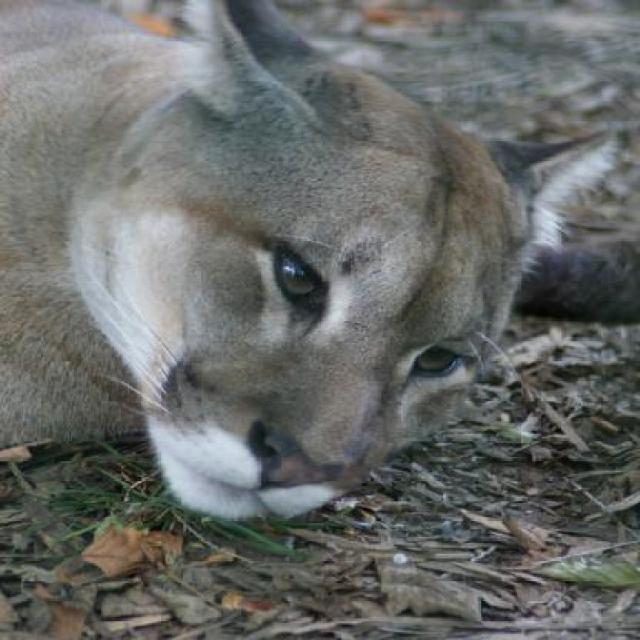Lion: (0, 6, 628, 639)
